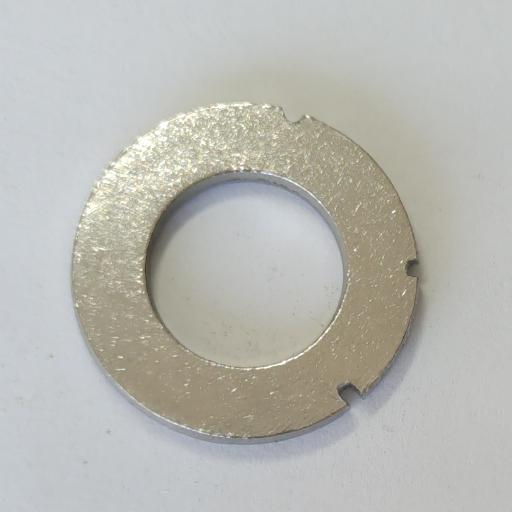burr: (337, 380, 361, 406), (281, 107, 307, 125), (405, 259, 419, 278)
